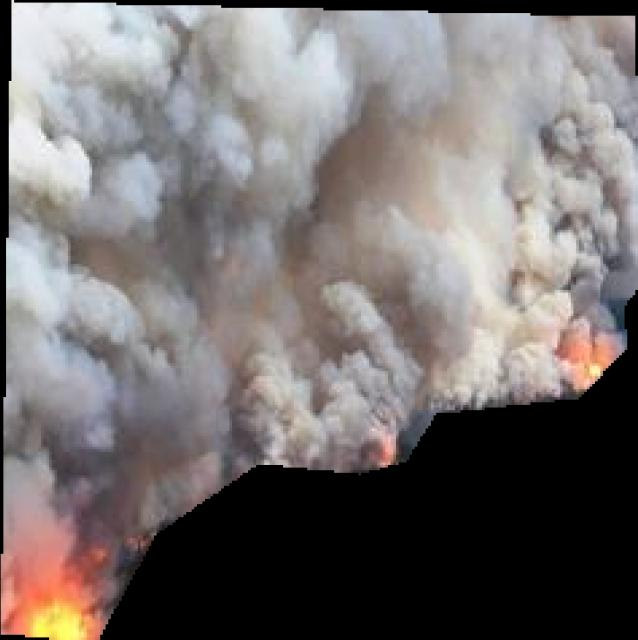fire: (0, 0, 638, 640)
